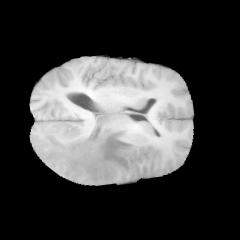glioma: (40, 128, 134, 183)
